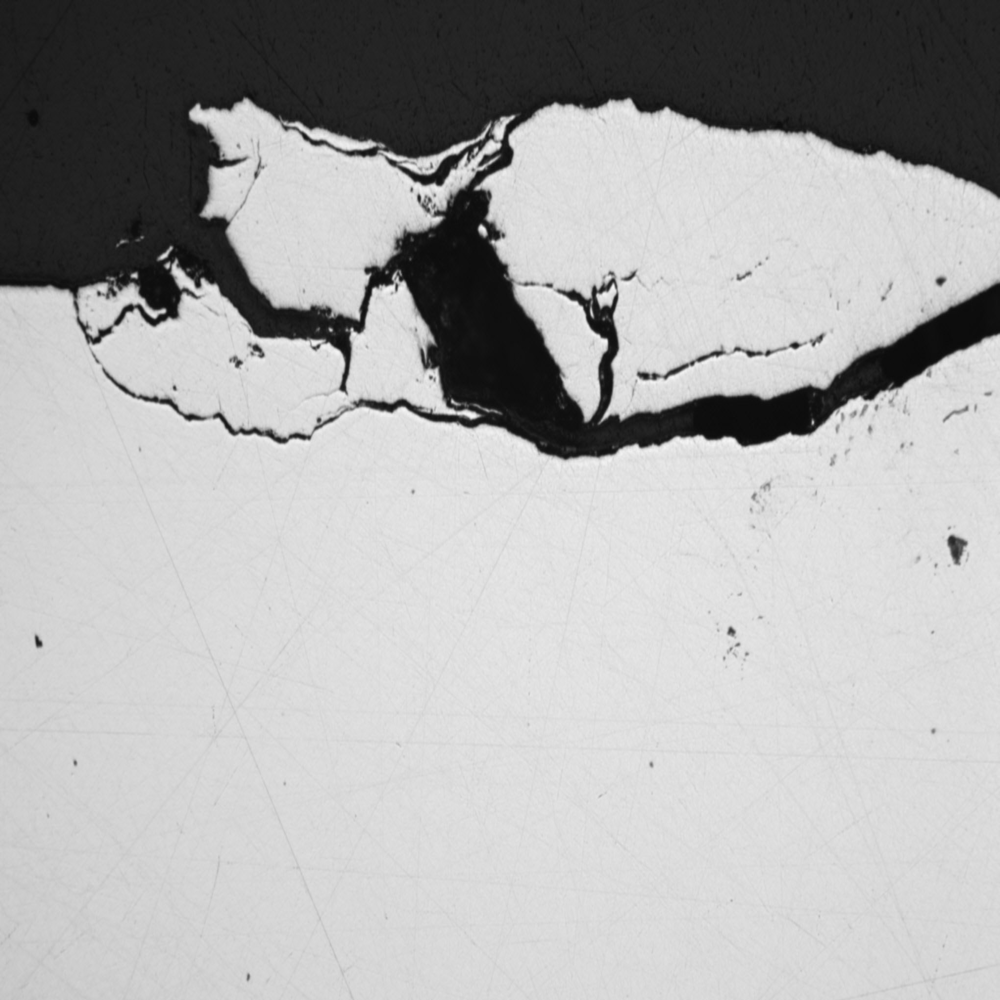crack: (71, 188, 1000, 459)
